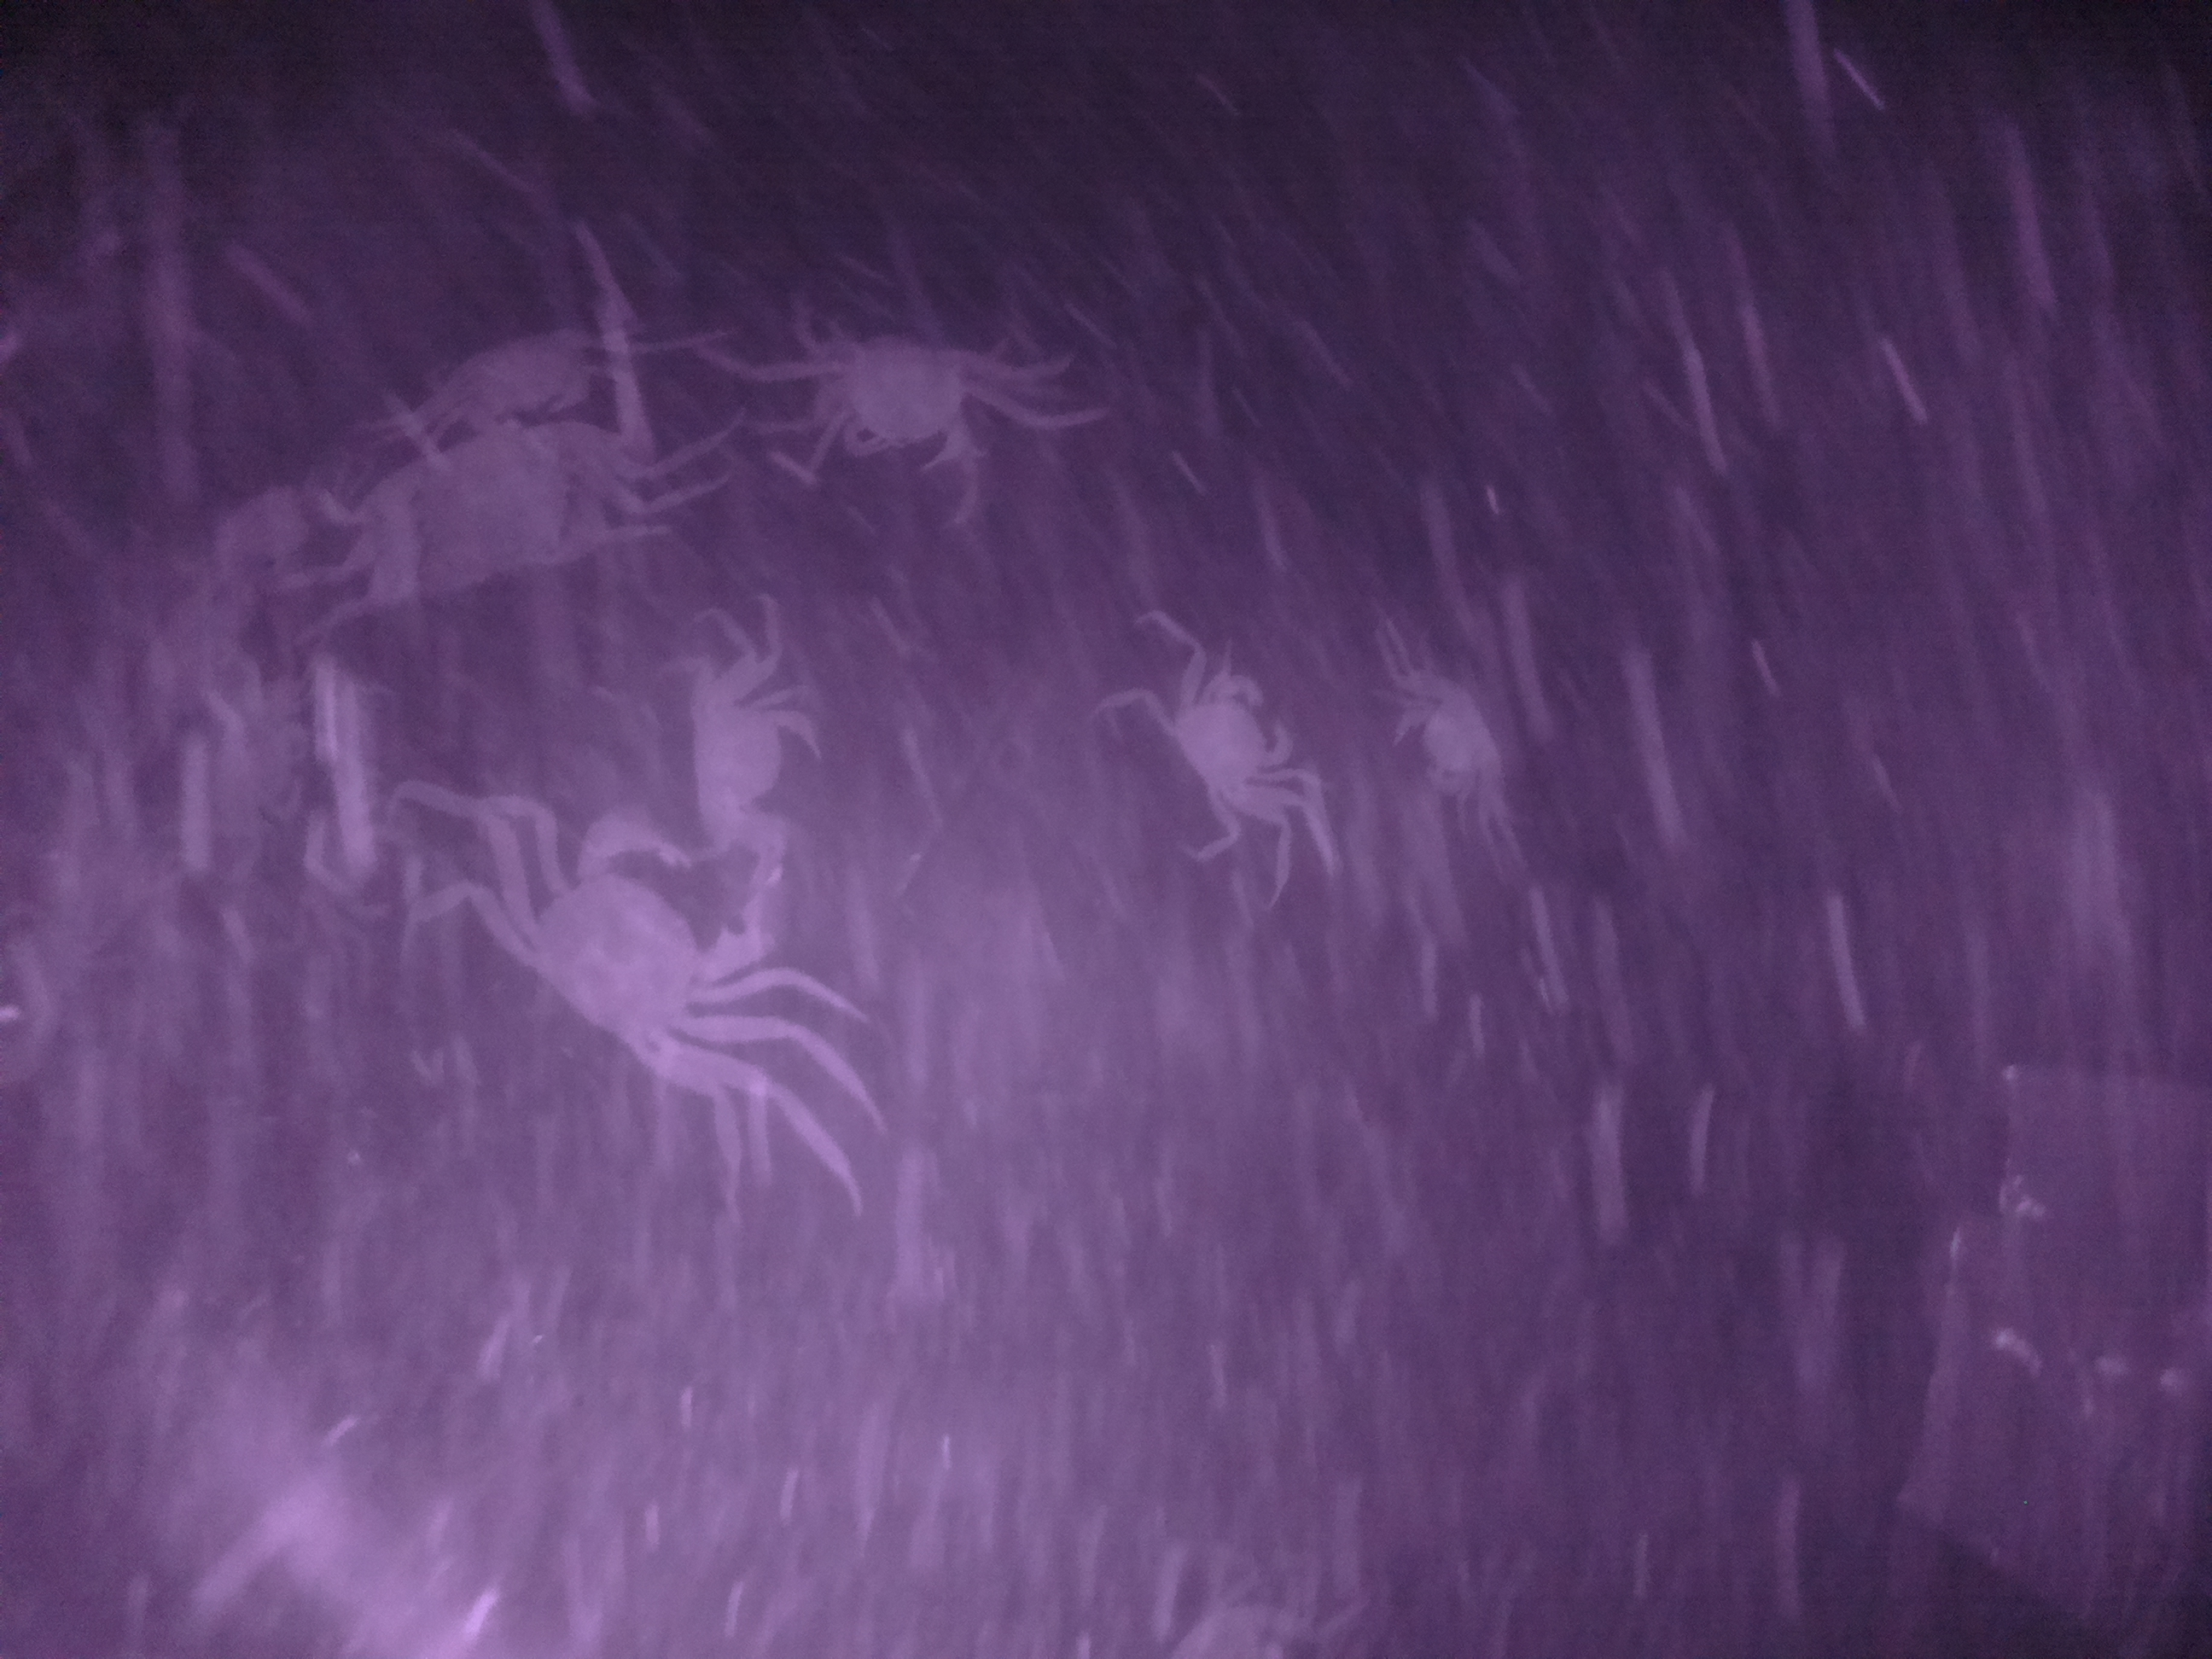Crab: (688, 669, 841, 871), (812, 319, 1005, 471), (1155, 660, 1296, 819), (1388, 664, 1522, 798)
